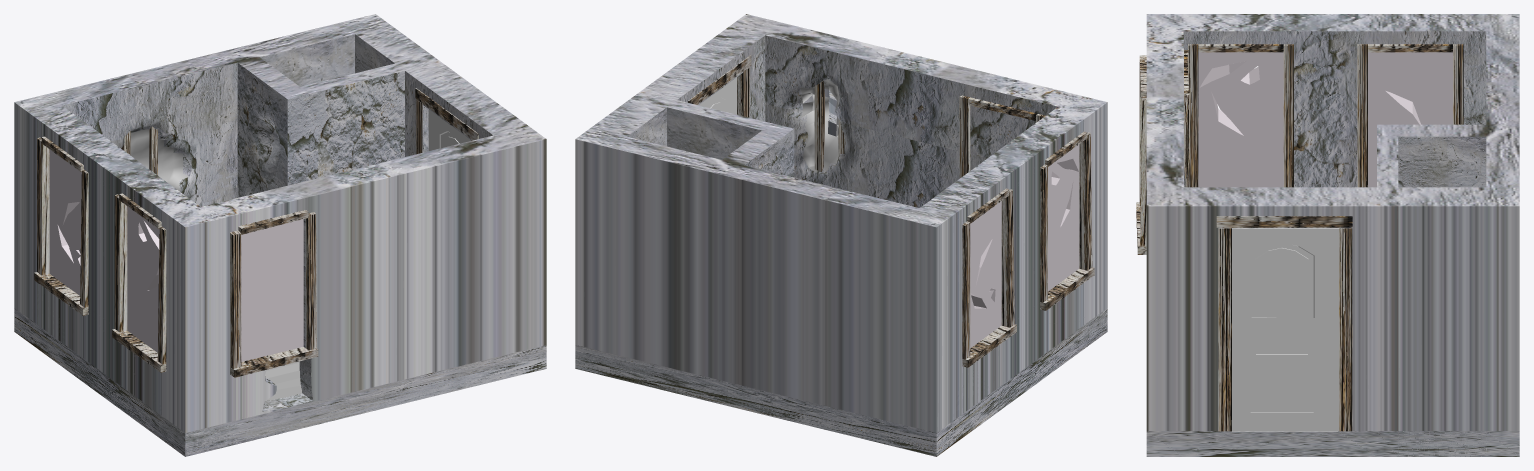
Rendered from destroyedRoom.fbx.
3 views of the same model, side by side, from view 1: azimuth 30°, elevation 25°; view 2: azimuth 150°, elevation 25°; view 3: azimuth 270°, elevation 25° (orthographic). The views are drawn at different scales.
Parts seen in each view (by area): view 1: Walls.001, Window.001, Window, Window.002, WindowFrame.005, WindowFrame.002, WindowFrame.001, WindowFrame.004, WindowFrame.003, windowframe, WindowFrame, doorframe (+4 smaller); view 2: Walls.001, Window.002, Window, WindowFrame, WindowFrame.003, WindowFrame.001, WindowFrame.002, Cube.001, WindowFrame.004, windowframe.001, Windowframe, Door (+3 smaller); view 3: Walls.001, Door, Window.002, Window, doorframe, doorframe.001, WindowFrame.002, WindowFrame.001, WindowFrame, WindowFrame.004, WindowFrame.003, WindowFrame.005.
Boxes of the visible parts, box(x1,y1,x2,y2) form: Walls.001: box(14, 14, 546, 456); Window.001: box(241, 219, 303, 361); Window: box(49, 149, 81, 295); Window.002: box(127, 206, 159, 352); WindowFrame.005: box(230, 210, 308, 368); WindowFrame.002: box(114, 193, 161, 332); WindowFrame.001: box(37, 136, 83, 275); WindowFrame.004: box(306, 212, 316, 350); WindowFrame.003: box(157, 226, 166, 364); windowframe: box(230, 347, 318, 377); WindowFrame: box(80, 169, 88, 307); doorframe: box(415, 88, 478, 154); Walls.001: box(575, 14, 1107, 456); Window.002: box(1048, 144, 1079, 291); Window: box(970, 201, 1001, 347); WindowFrame: box(1001, 189, 1014, 327); WindowFrame.003: box(1079, 132, 1092, 270); WindowFrame.001: box(962, 188, 1009, 359); WindowFrame.002: box(1040, 131, 1087, 302); Cube.001: box(814, 81, 824, 171); WindowFrame.004: box(959, 95, 970, 178); windowframe.001: box(962, 324, 1016, 367); Windowframe: box(1040, 267, 1094, 310); Door: box(699, 77, 736, 114); Walls.001: box(1146, 14, 1519, 456); Door: box(1232, 228, 1338, 430); Window.002: box(1198, 52, 1283, 187); Window: box(1368, 52, 1452, 187); doorframe: box(1216, 216, 1352, 431); doorframe.001: box(1218, 228, 1231, 431); WindowFrame.002: box(1198, 44, 1293, 187); WindowFrame.001: box(1368, 44, 1463, 124); WindowFrame: box(1357, 44, 1367, 187); WindowFrame.004: box(1140, 90, 1189, 246); WindowFrame.003: box(1188, 44, 1198, 187); WindowFrame.005: box(1139, 50, 1188, 206).
Bounding box in the file's own units: 1220 × 727 × 1008.
